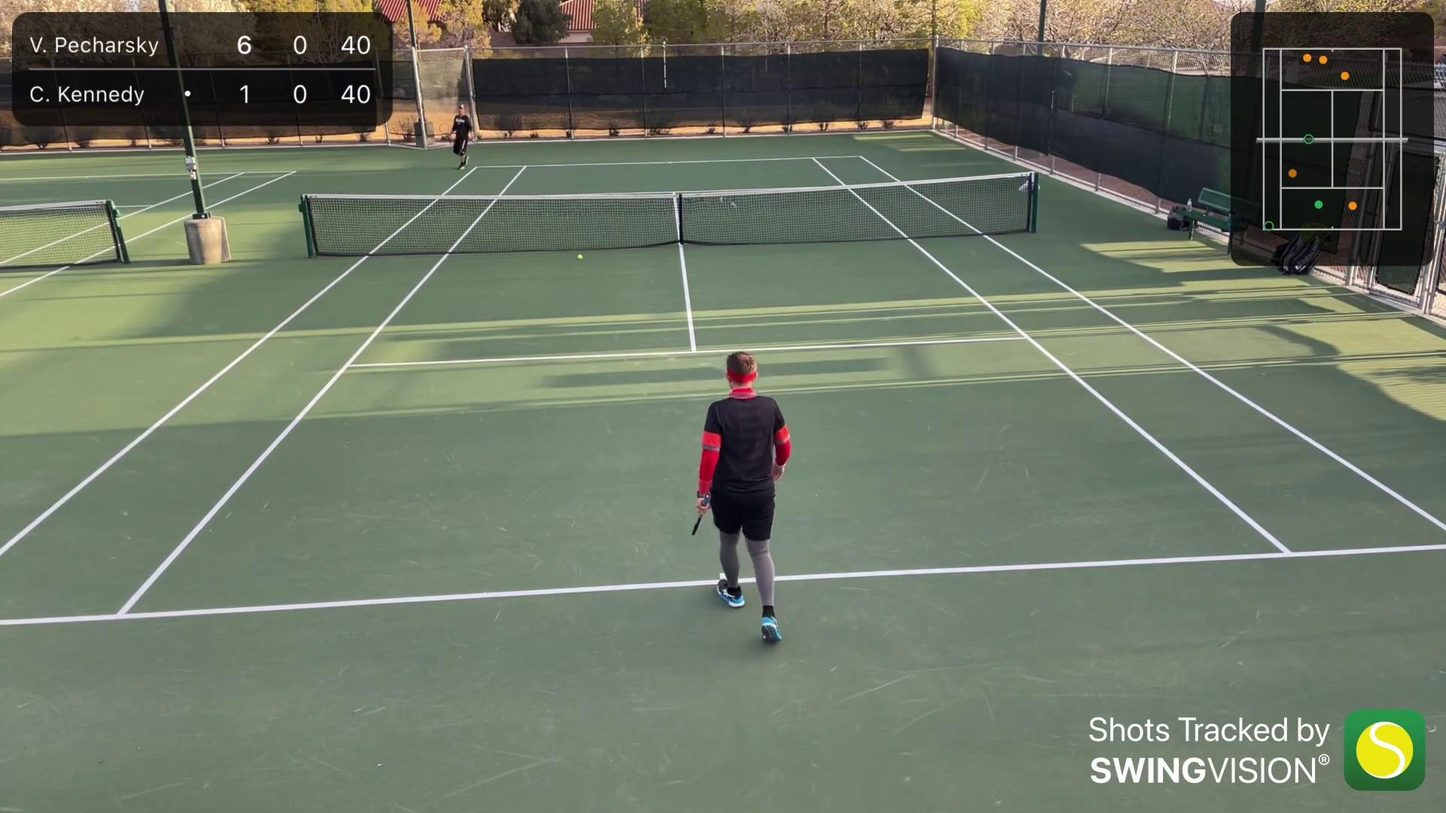ball: (576, 254, 583, 261)
